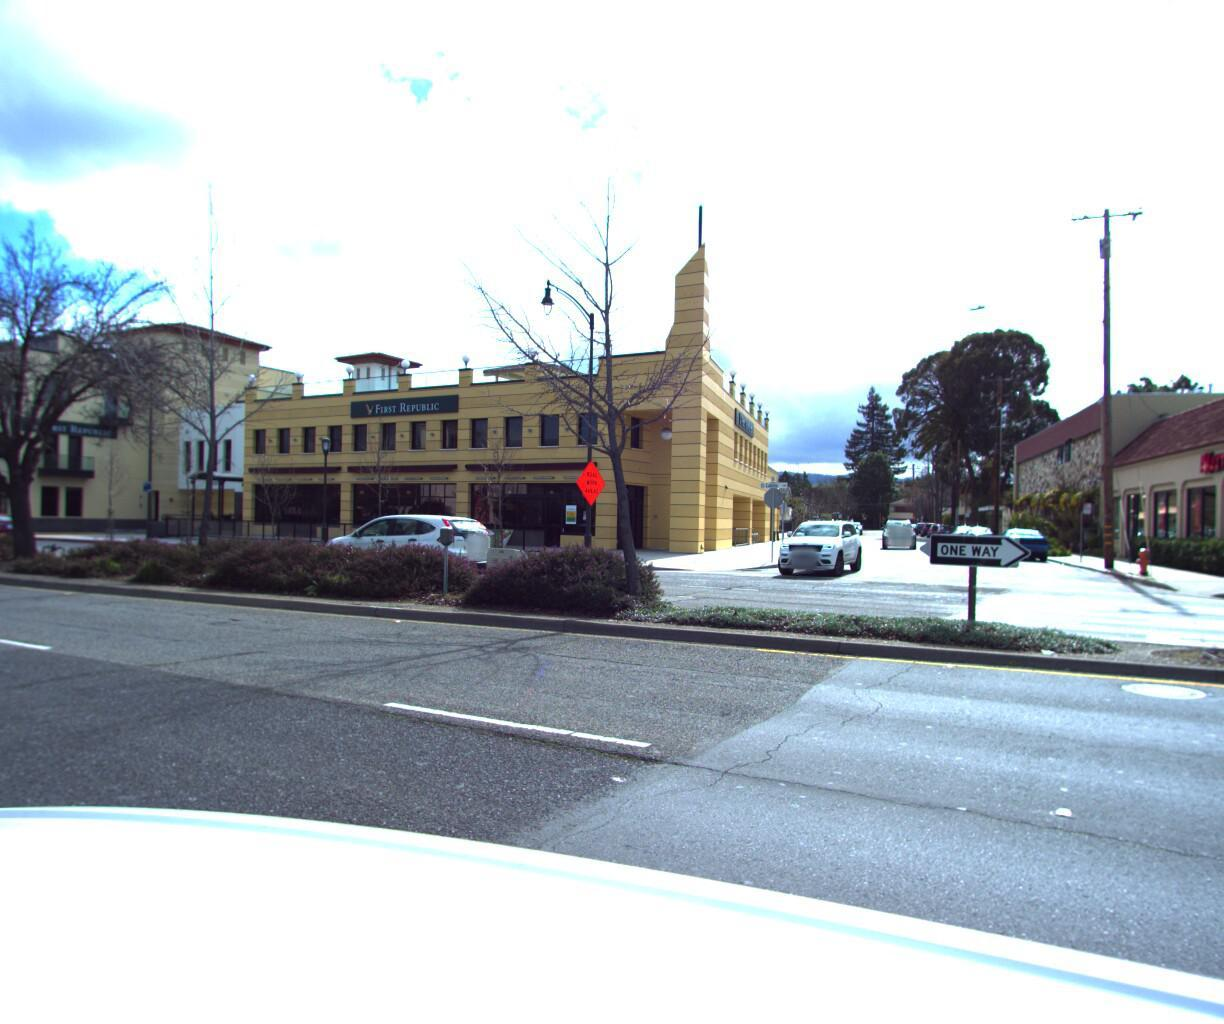car: (310, 511, 501, 591), (768, 521, 866, 585), (984, 532, 1050, 569), (955, 529, 996, 555), (0, 517, 29, 551), (886, 533, 917, 560), (946, 530, 981, 553), (930, 528, 957, 546)
